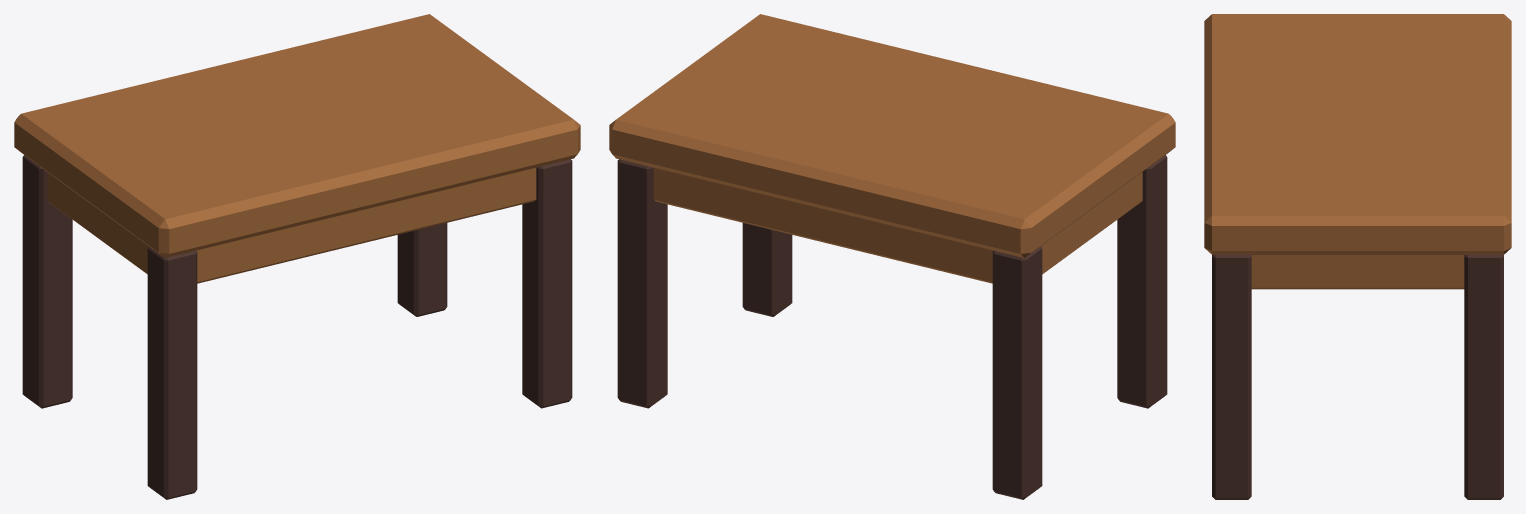
The model's file is table_perimetre.glb.
3 renders of one model, left to right at view 1: azimuth 30°, elevation 25°; view 2: azimuth 150°, elevation 25°; view 3: azimuth 270°, elevation 25°, orthographic.
Visible parts, largest first — view 1: table_perimetre; view 2: table_perimetre; view 3: table_perimetre.
Part boxes in pixels (left/top/right/bottom): table_perimetre: left=14, top=14, right=580, bottom=499; table_perimetre: left=609, top=14, right=1175, bottom=499; table_perimetre: left=1204, top=14, right=1511, bottom=499.
Size of the model in its own units: 1.25 by 0.8 by 0.78.
Materials: 1 (1 with a texture image).
